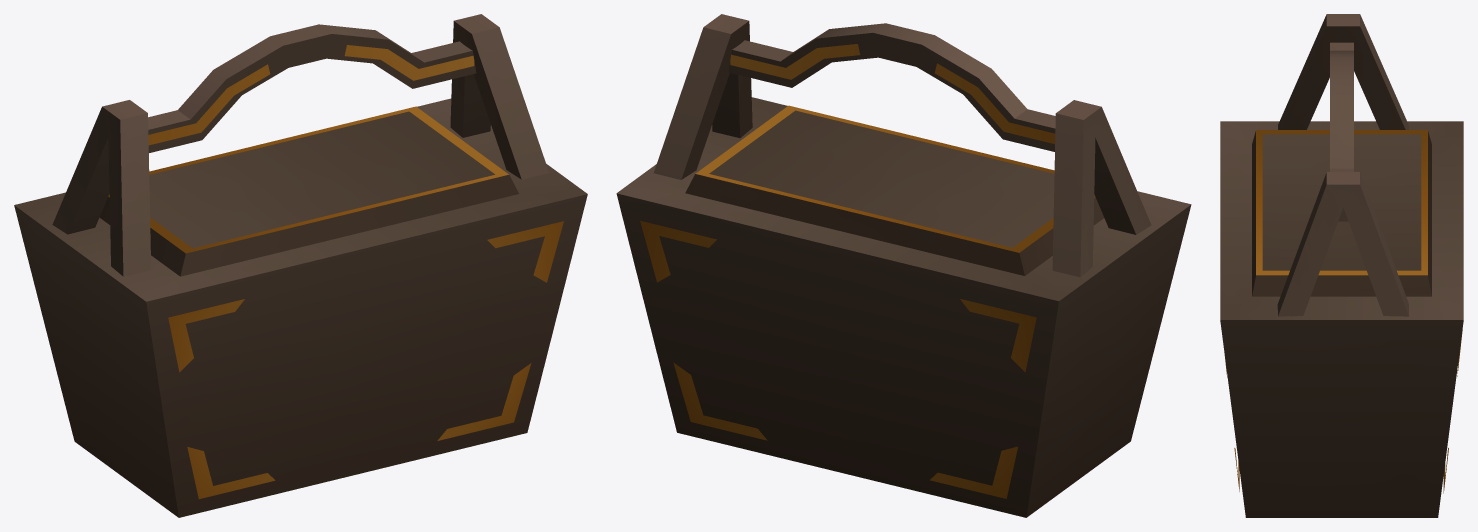
File: SK_Prop_002.FBX
The picture shows the model from 3 angles, left to right: view 1: azimuth 30°, elevation 25°; view 2: azimuth 150°, elevation 25°; view 3: azimuth 270°, elevation 25°; orthographic projection. The views are drawn at different scales.
Visible parts, largest first — view 1: SK_Prop_002; view 2: SK_Prop_002; view 3: SK_Prop_002.
Boxes of the visible parts, x1=… form: SK_Prop_002: x1=14, y1=14, x2=587, y2=517; SK_Prop_002: x1=616, y1=14, x2=1191, y2=517; SK_Prop_002: x1=1220, y1=14, x2=1463, y2=517.
Bounding box in the file's own units: 32.64 × 28.41 × 16.92.
1 material, 1 textured.
